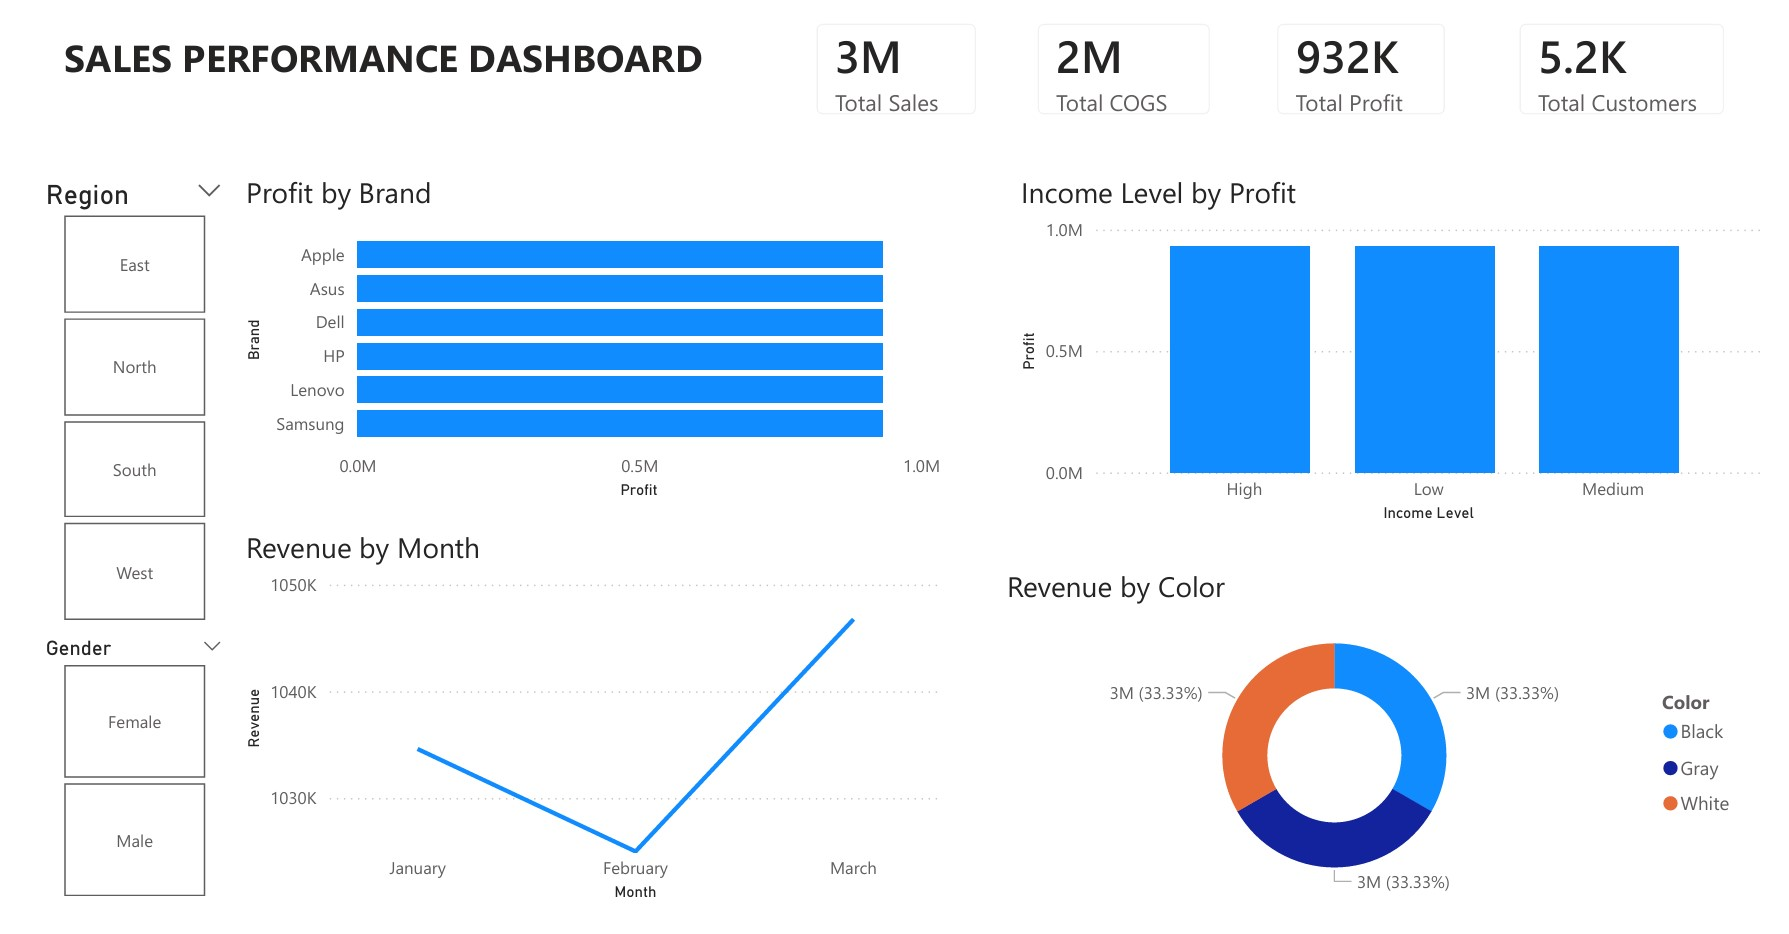

What the dashboard file says about the page in this screenshot:
{"tool":"powerbi","page":{"name":"Page 1","canvas":[1280,720],"ordinal":0},"visuals":[{"type":"barChart","title":"Profit by Brand","fields":{"Category":["Products.Brand"],"Y":["Sum(Sales.Profit)"]},"box":[174.3,147.2,502.3,236.3],"z":0},{"type":"donutChart","title":"Revenue by Color","fields":{"Category":["Products.Color"],"Y":["Sum(Sales.Revenue)"]},"box":[714,427.4,532,240.2],"z":1000},{"type":"lineChart","title":"Revenue by Month","fields":{"Category":["Sales.SaleDate.Variation.Date Hierarchy.Month"],"Y":["Sum(Sales.Revenue)"]},"box":[174.3,399,502.3,268.6],"z":2000},{"type":"columnChart","title":"Income Level by Profit","fields":{"Category":["Customers.IncomeLevel"],"Y":["Sum(Sales.Profit)"]},"box":[724.4,147.2,534.6,251.8],"z":3000},{"type":"cardVisual","fields":{"Data":["Sum(Sales.Revenue)"]},"box":[566.9,24.6,147.4,98.3],"z":4000},{"type":"cardVisual","fields":{"Data":["Sum(Sales.COGS)"]},"box":[723.8,24.6,156.9,98.3],"z":5000},{"type":"cardVisual","fields":{"Data":["Sum(Sales.Profit)"]},"box":[893.9,24.6,153.1,98.3],"z":6000},{"type":"cardVisual","fields":{"Data":["CountNonNull(Sales.CustomerID)"]},"box":[1065.8,24.6,179.5,98.3],"z":7000},{"type":"textbox","box":[24.5,24.5,503.6,98.1],"z":8000},{"type":"slicer","fields":{"Values":["Customers.Region"]},"box":[24.2,146.9,149.9,325.6],"z":9000},{"type":"slicer","fields":{"Values":["Customers.Gender"]},"box":[24.2,472.4,149.9,195.3],"z":10000}]}

Visuals, with their boxes on the page's 1280x720 design canvas (x1, y1, x2, y2). These are canvas units, not pixel positions in the 1789x934 screenshot, which may show the page scaled, cropped or inside an application window:
"Profit by Brand" barChart: select_region(174, 147, 677, 384)
"Revenue by Color" donutChart: select_region(714, 427, 1246, 668)
"Revenue by Month" lineChart: select_region(174, 399, 677, 668)
"Income Level by Profit" columnChart: select_region(724, 147, 1259, 399)
cardVisual - Sum(Sales.Revenue): select_region(567, 25, 714, 123)
cardVisual - Sum(Sales.COGS): select_region(724, 25, 881, 123)
cardVisual - Sum(Sales.Profit): select_region(894, 25, 1047, 123)
cardVisual - CountNonNull(Sales.CustomerID): select_region(1066, 25, 1245, 123)
textbox: select_region(24, 24, 528, 123)
slicer - Customers.Region: select_region(24, 147, 174, 472)
slicer - Customers.Gender: select_region(24, 472, 174, 668)
